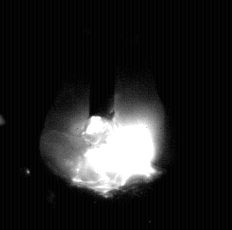arame: (89, 0, 115, 120)
poca: (40, 0, 164, 230)
